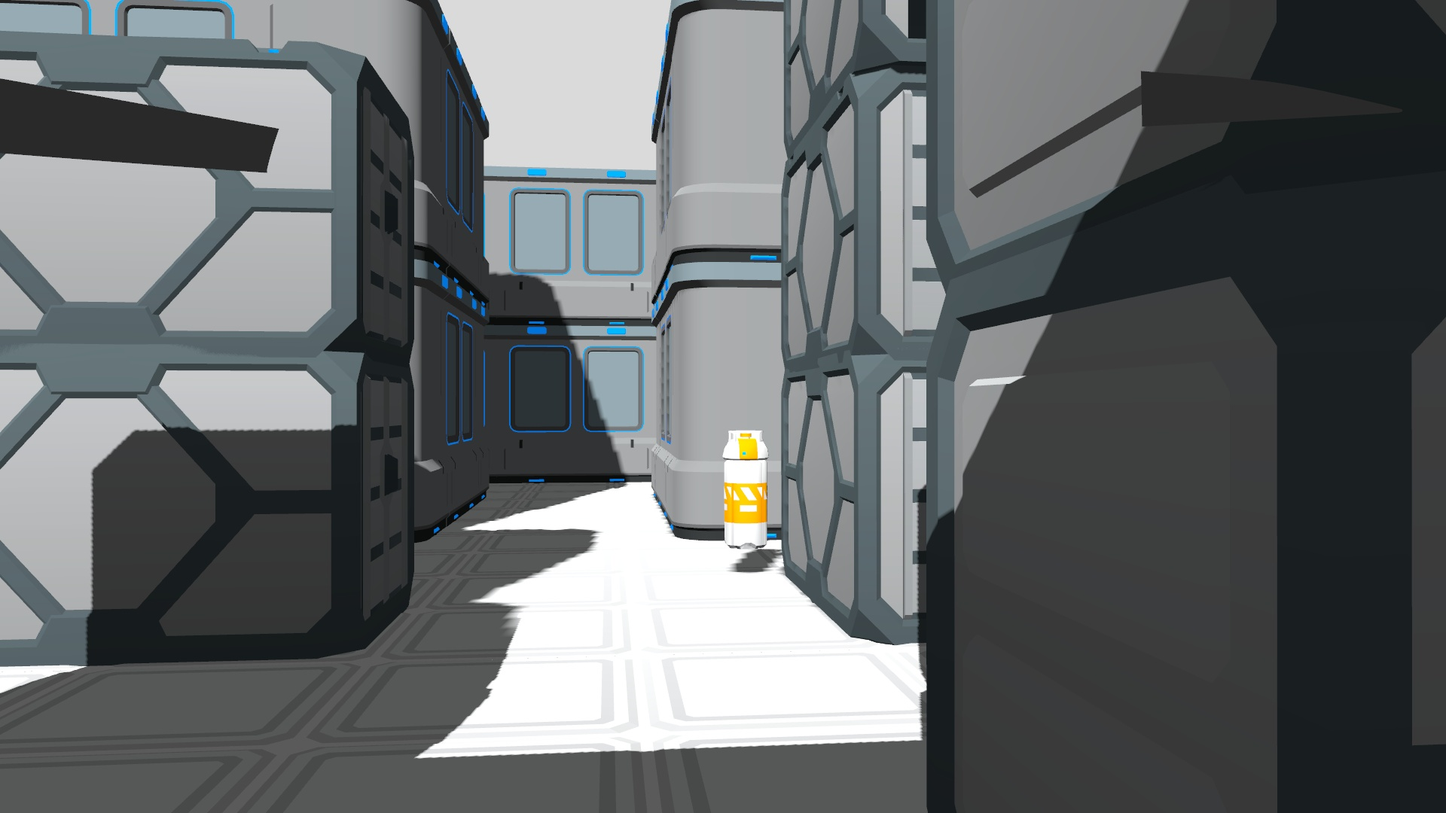yellow_barrel: (720, 422, 772, 553)
